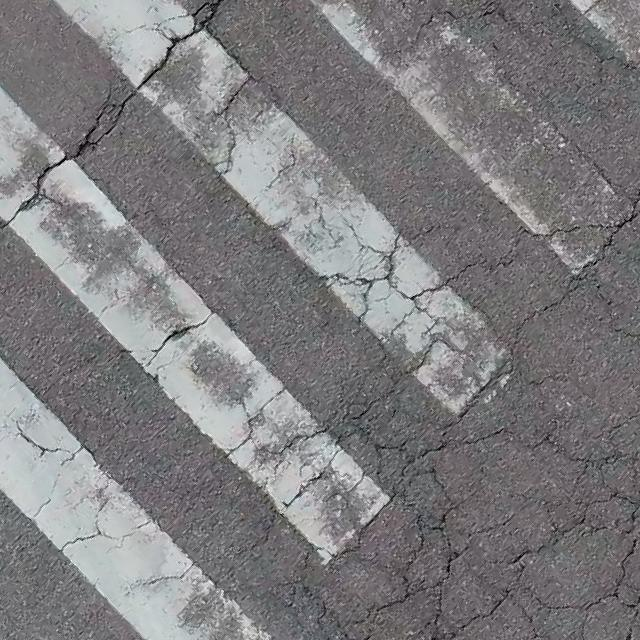GRIETA: (2, 0, 227, 232), (378, 6, 527, 62), (144, 311, 215, 368), (216, 78, 249, 176), (207, 28, 261, 84), (575, 35, 639, 72)
PIEL DE COCODRILO: (207, 181, 639, 639)
